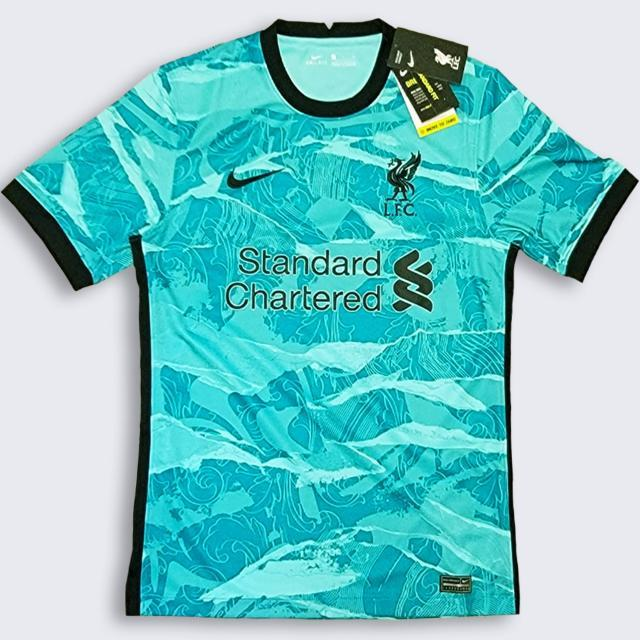Nike: (227, 166, 282, 191)
Standard Chartered: (224, 244, 434, 312)
